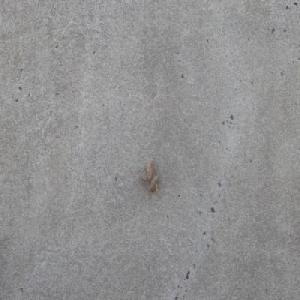Rock: (137, 158, 158, 194)
